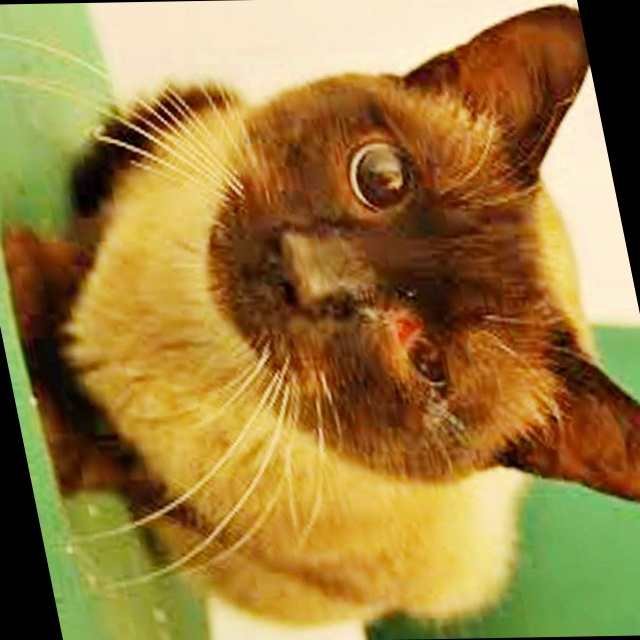eye_infection: (390, 322, 449, 383)
